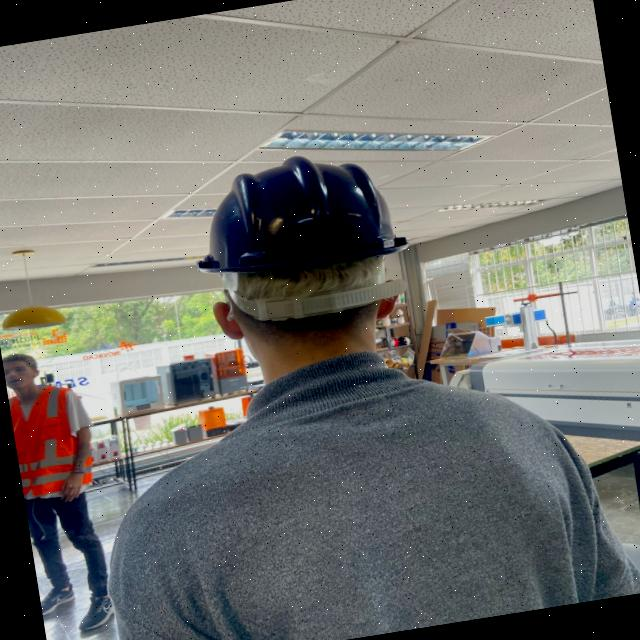CAPACETE: (179, 156, 419, 323)
COLETE: (8, 382, 95, 498)
SEM BOTA: (81, 591, 122, 631), (42, 580, 78, 617)
SEM LUVA: (59, 471, 85, 505)
